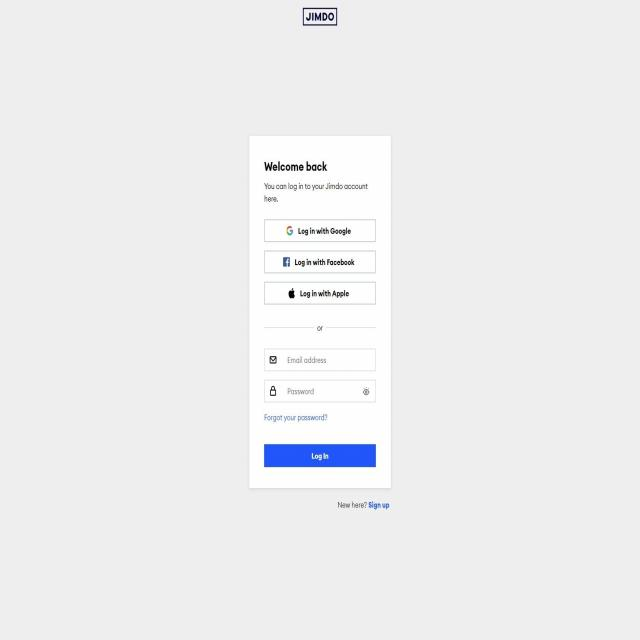button: (264, 443, 376, 468), (264, 218, 377, 242), (264, 250, 376, 274), (264, 281, 376, 305)
input: (264, 347, 376, 373), (264, 378, 376, 402)
